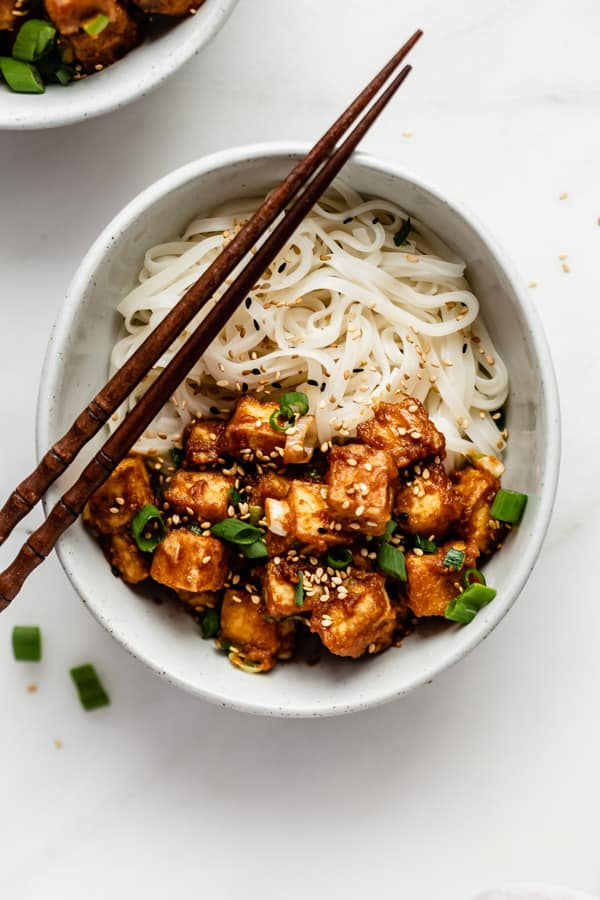Tahu: (360, 537, 489, 626), (300, 431, 399, 533), (108, 532, 237, 598), (380, 465, 479, 527), (307, 594, 389, 650), (358, 424, 448, 471), (183, 465, 237, 506)
